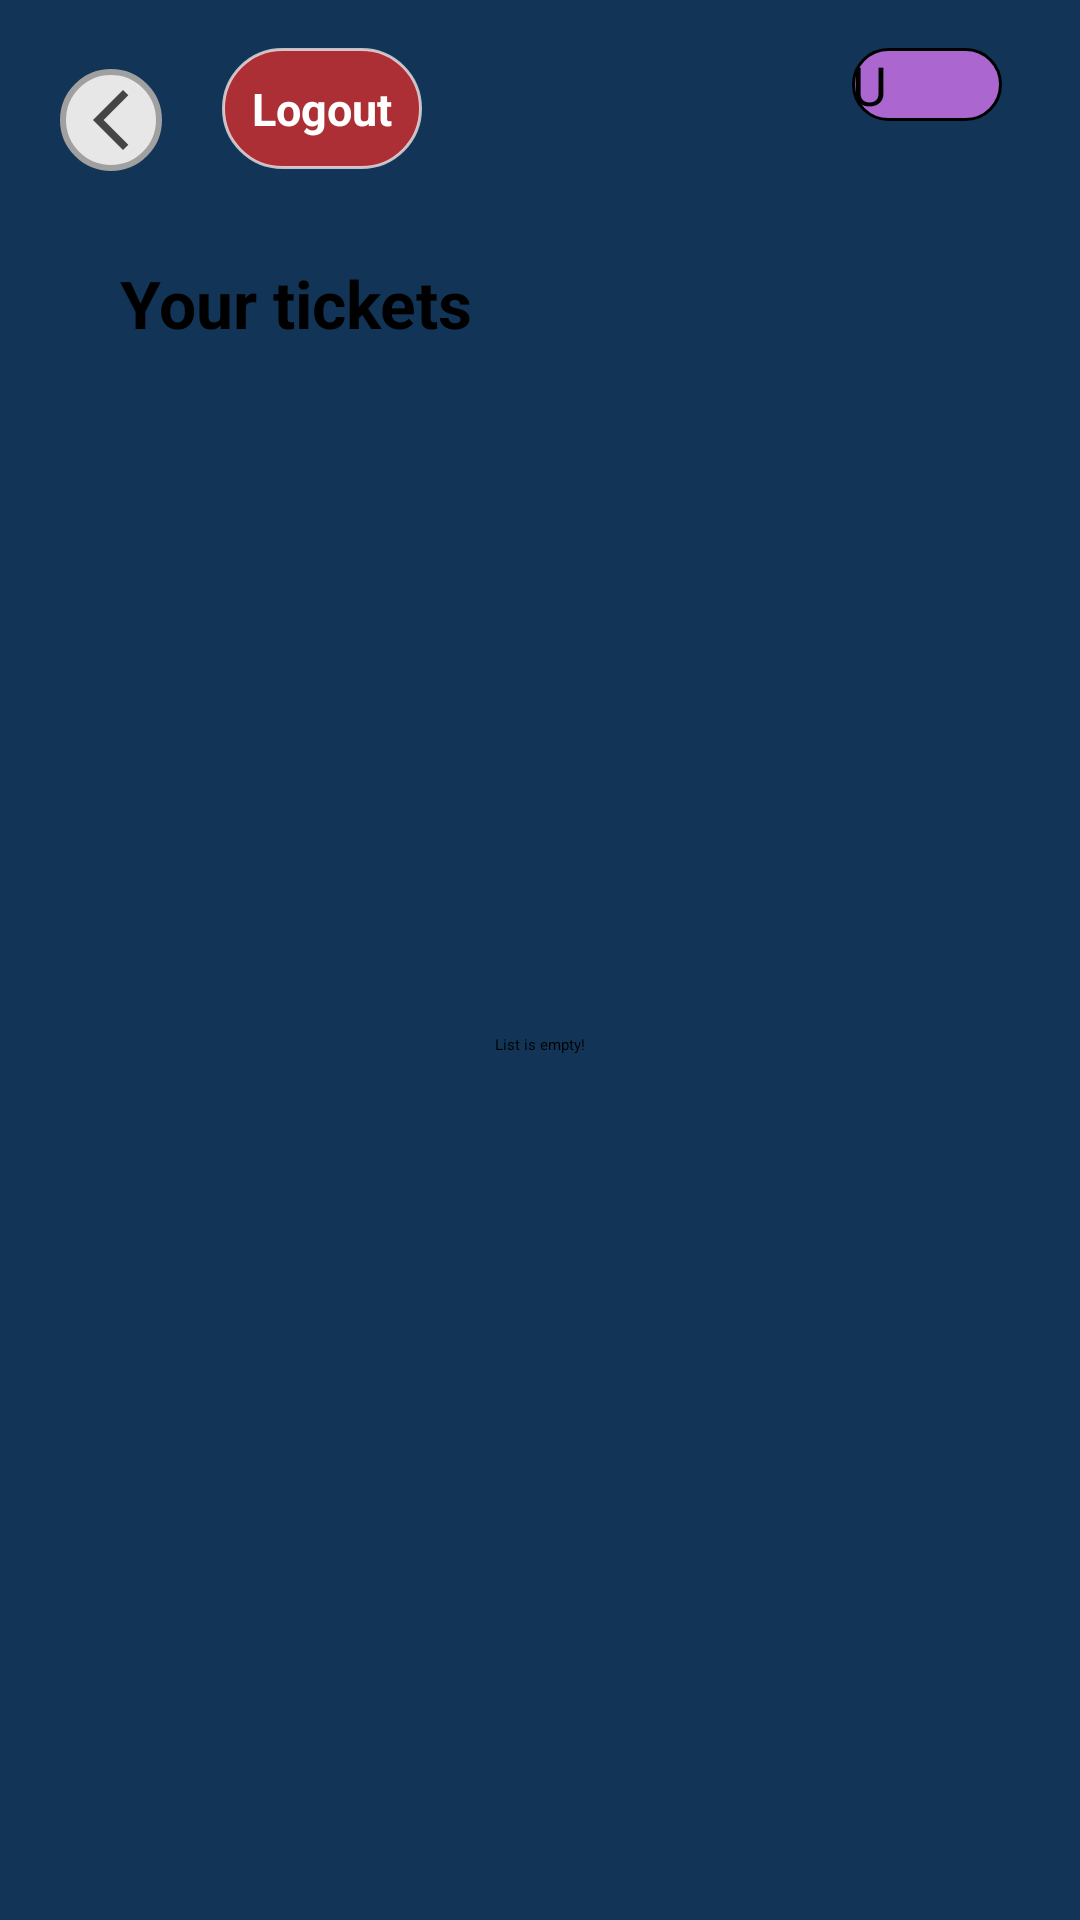

Named icons in this screenshot (1080px×1920px) and their bounding boxes, bbox(x1, y1, x2, y2):
Back: bbox(60, 69, 162, 171)
